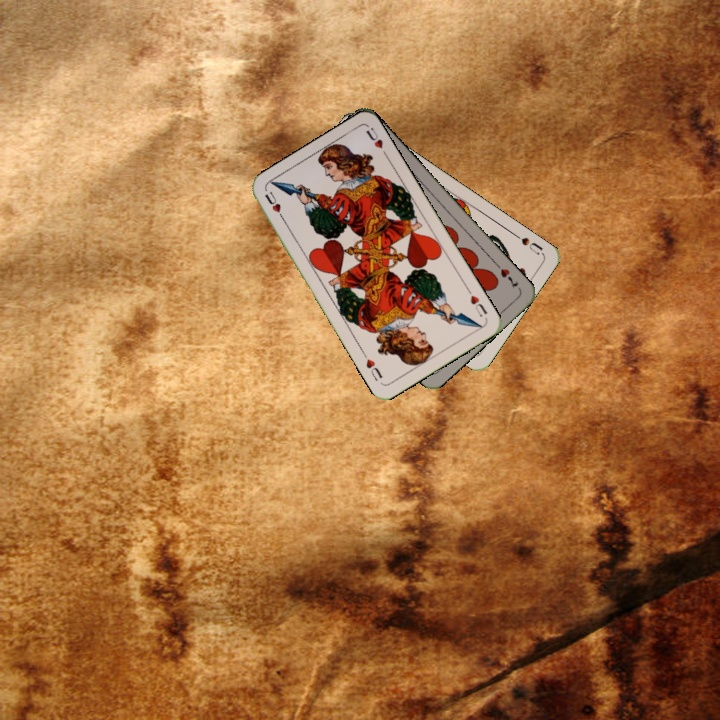H7: (491, 259, 521, 290)
HU: (261, 187, 288, 224), (463, 285, 490, 320)
SU: (510, 229, 545, 258)
